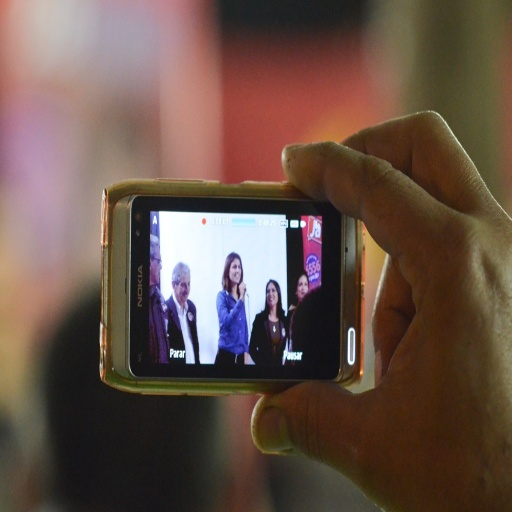hand: (261, 105, 511, 510)
